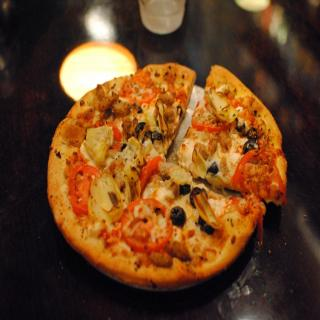Pizza: (51, 73, 270, 305)
